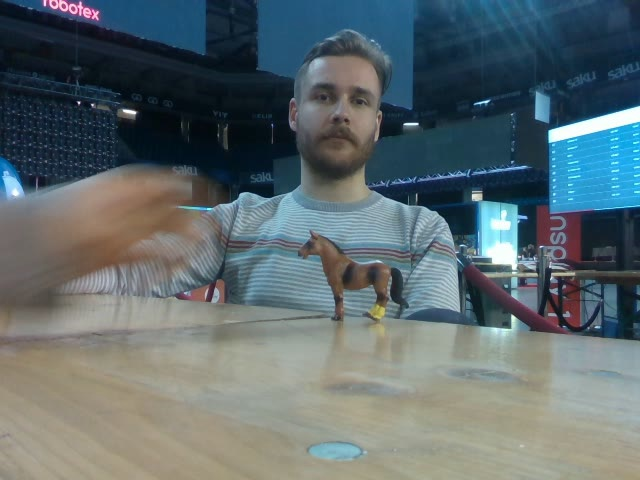toy: (289, 226, 412, 327)
